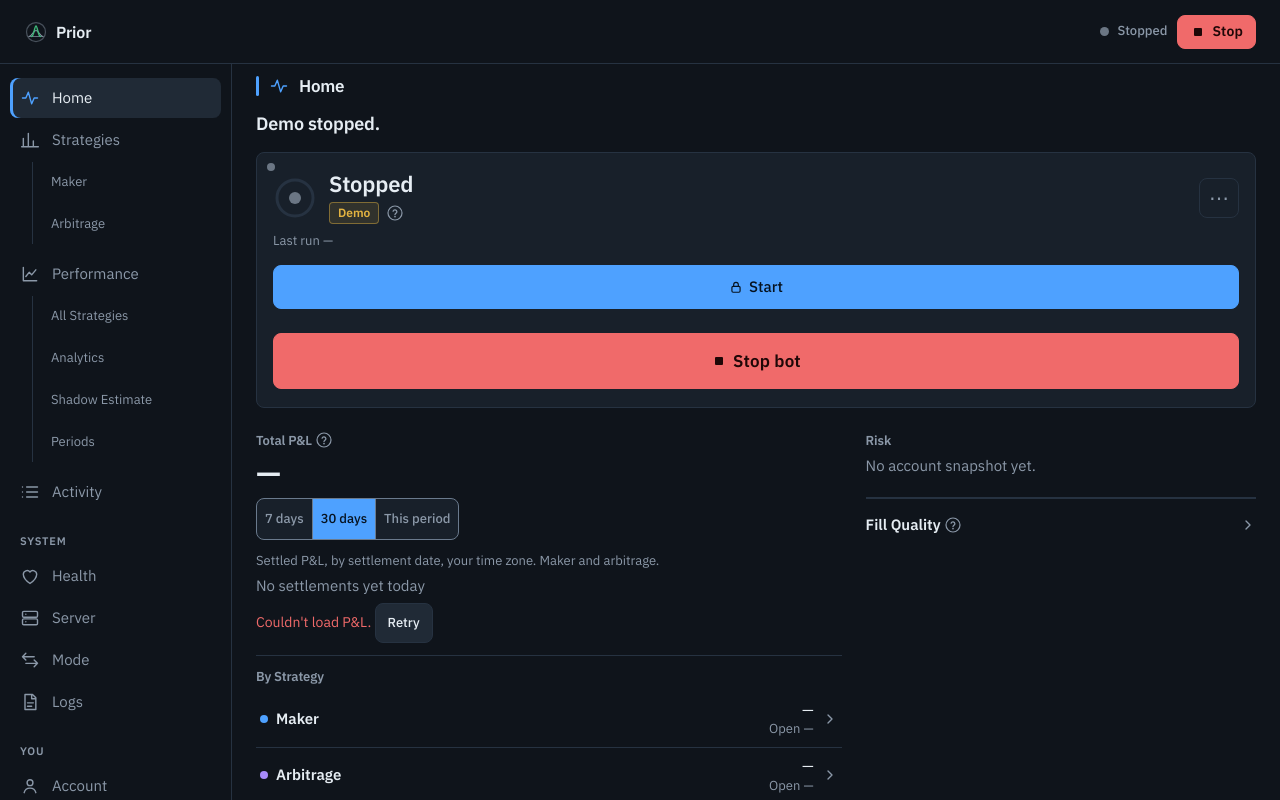
Test: fill quality › under 50 fills shows numbers but no warning
The width and height of the screenshot is (1280, 800).
Step 1. Click the button with class "fold-toggle" → click(903, 525), box [866,499,1256,551]
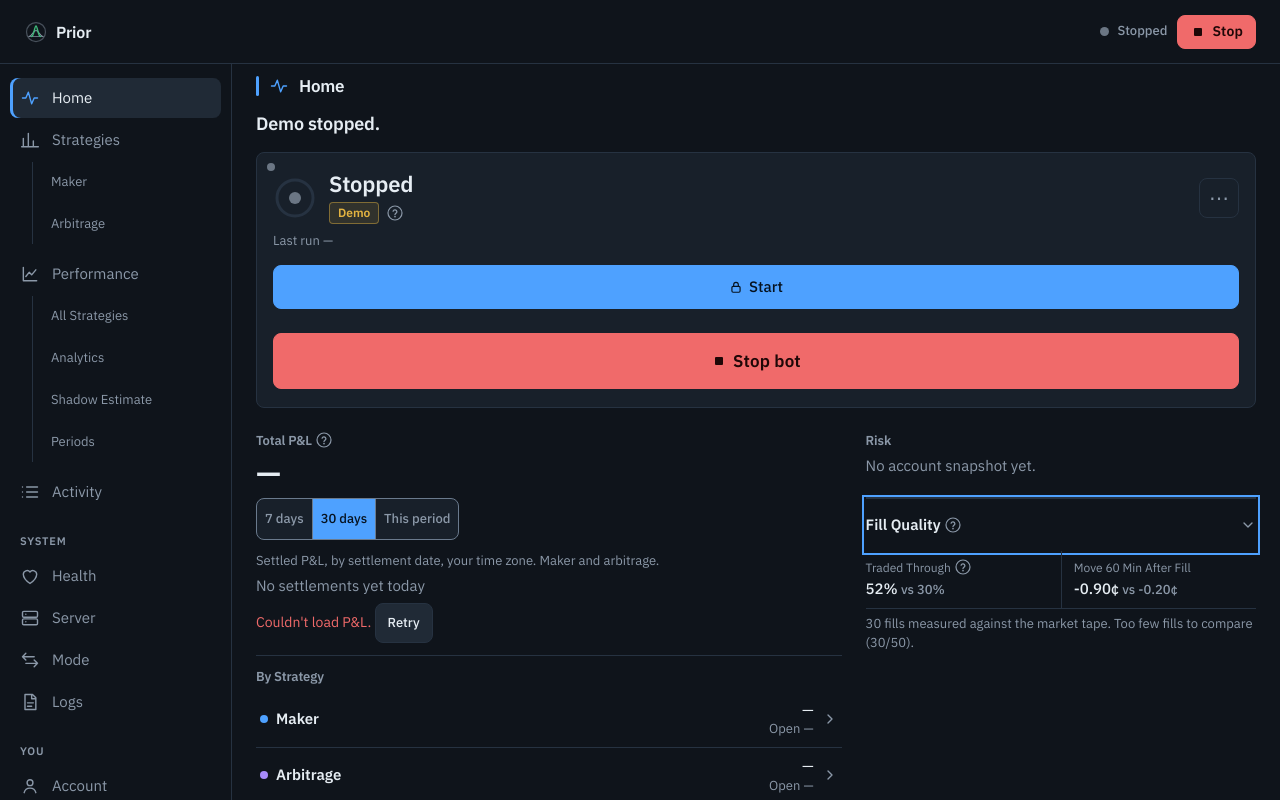
Now the text "52%" is shown, box [866,579,898,598]
Now the text "Too few fills to compare (30/50)" is shown, box [866,615,1253,651]
